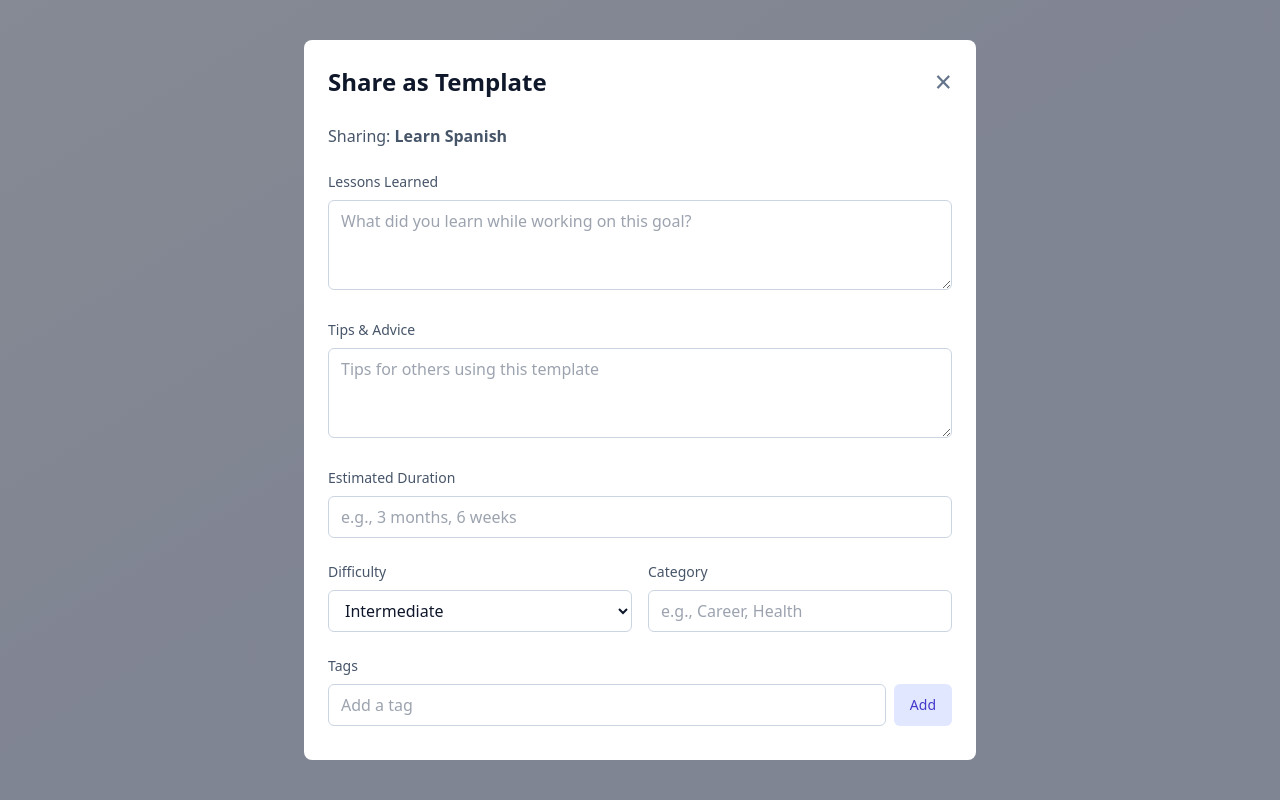
Test: ShareGoalModal › can remove a tag
In the field with placeholder "Add a tag": x=607, y=705 [328,684,886,726], type "visa"
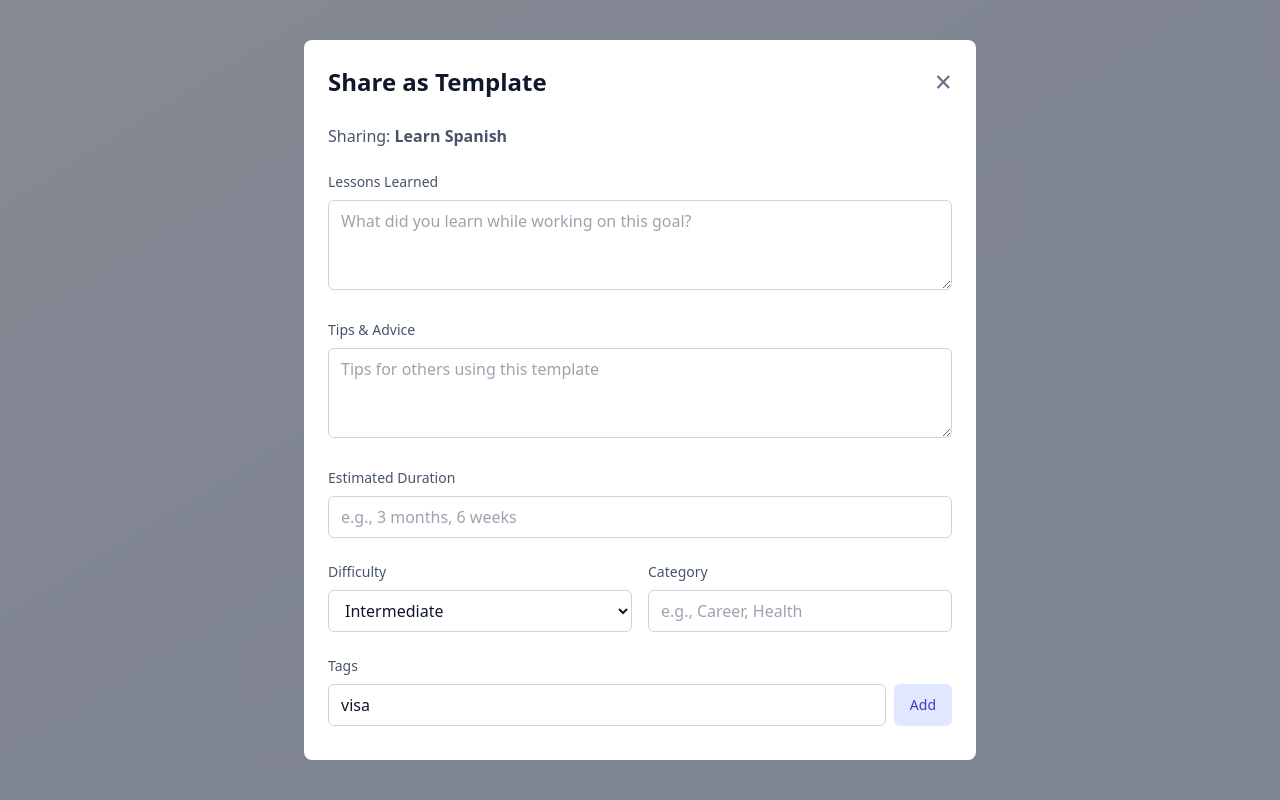
Click the button "Add": x=923, y=705 [894,684,952,726]
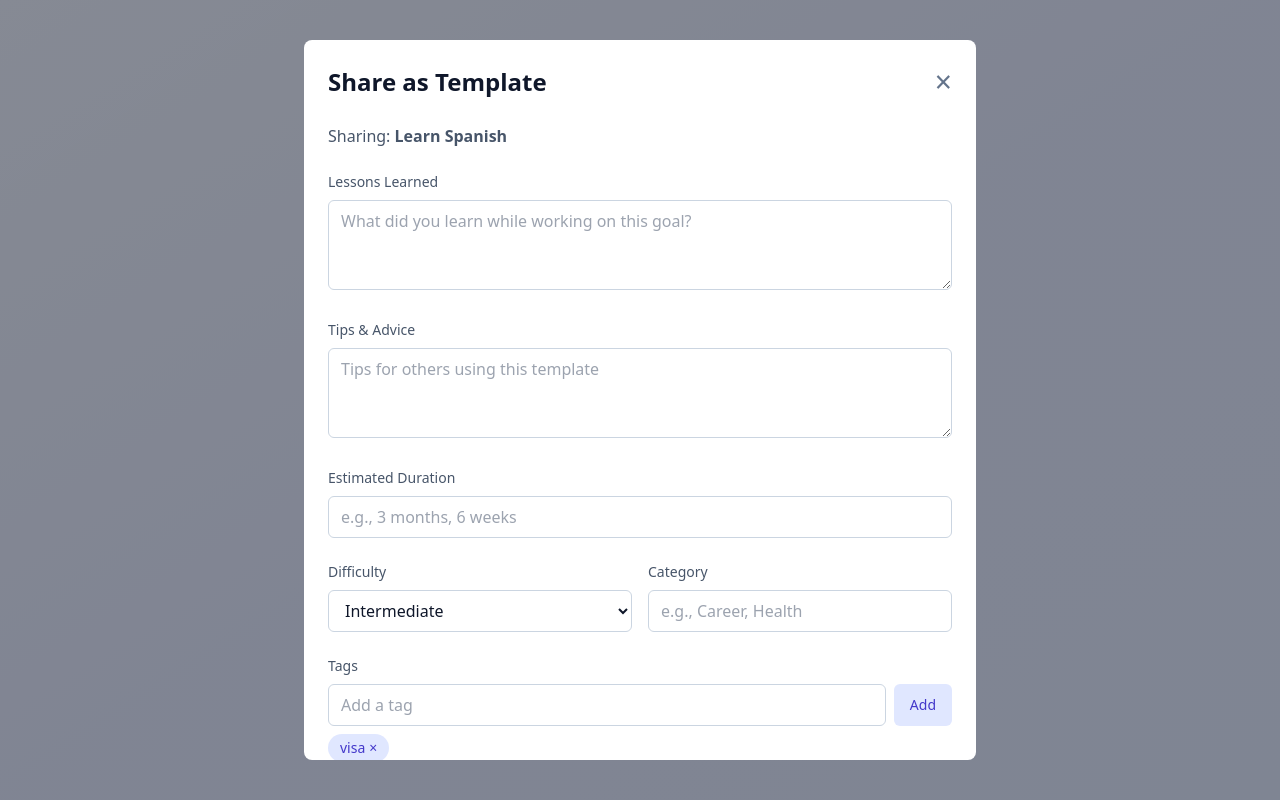
Expected: the text "visa" is shown, [340,738,365,757]
// The × button inside the tag pill
Click the button "×" next to "visa": x=373, y=748 [369,738,377,758]
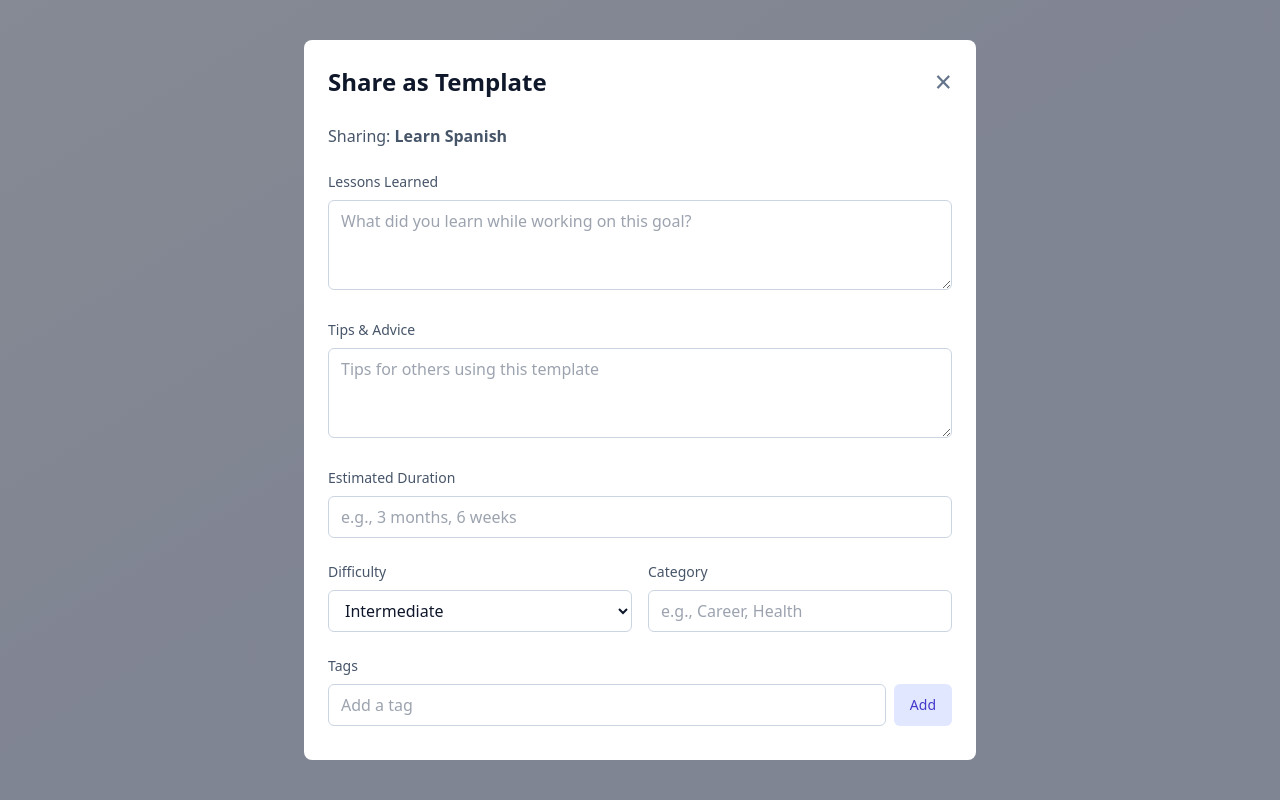
Expected: the text "visa" is gone
